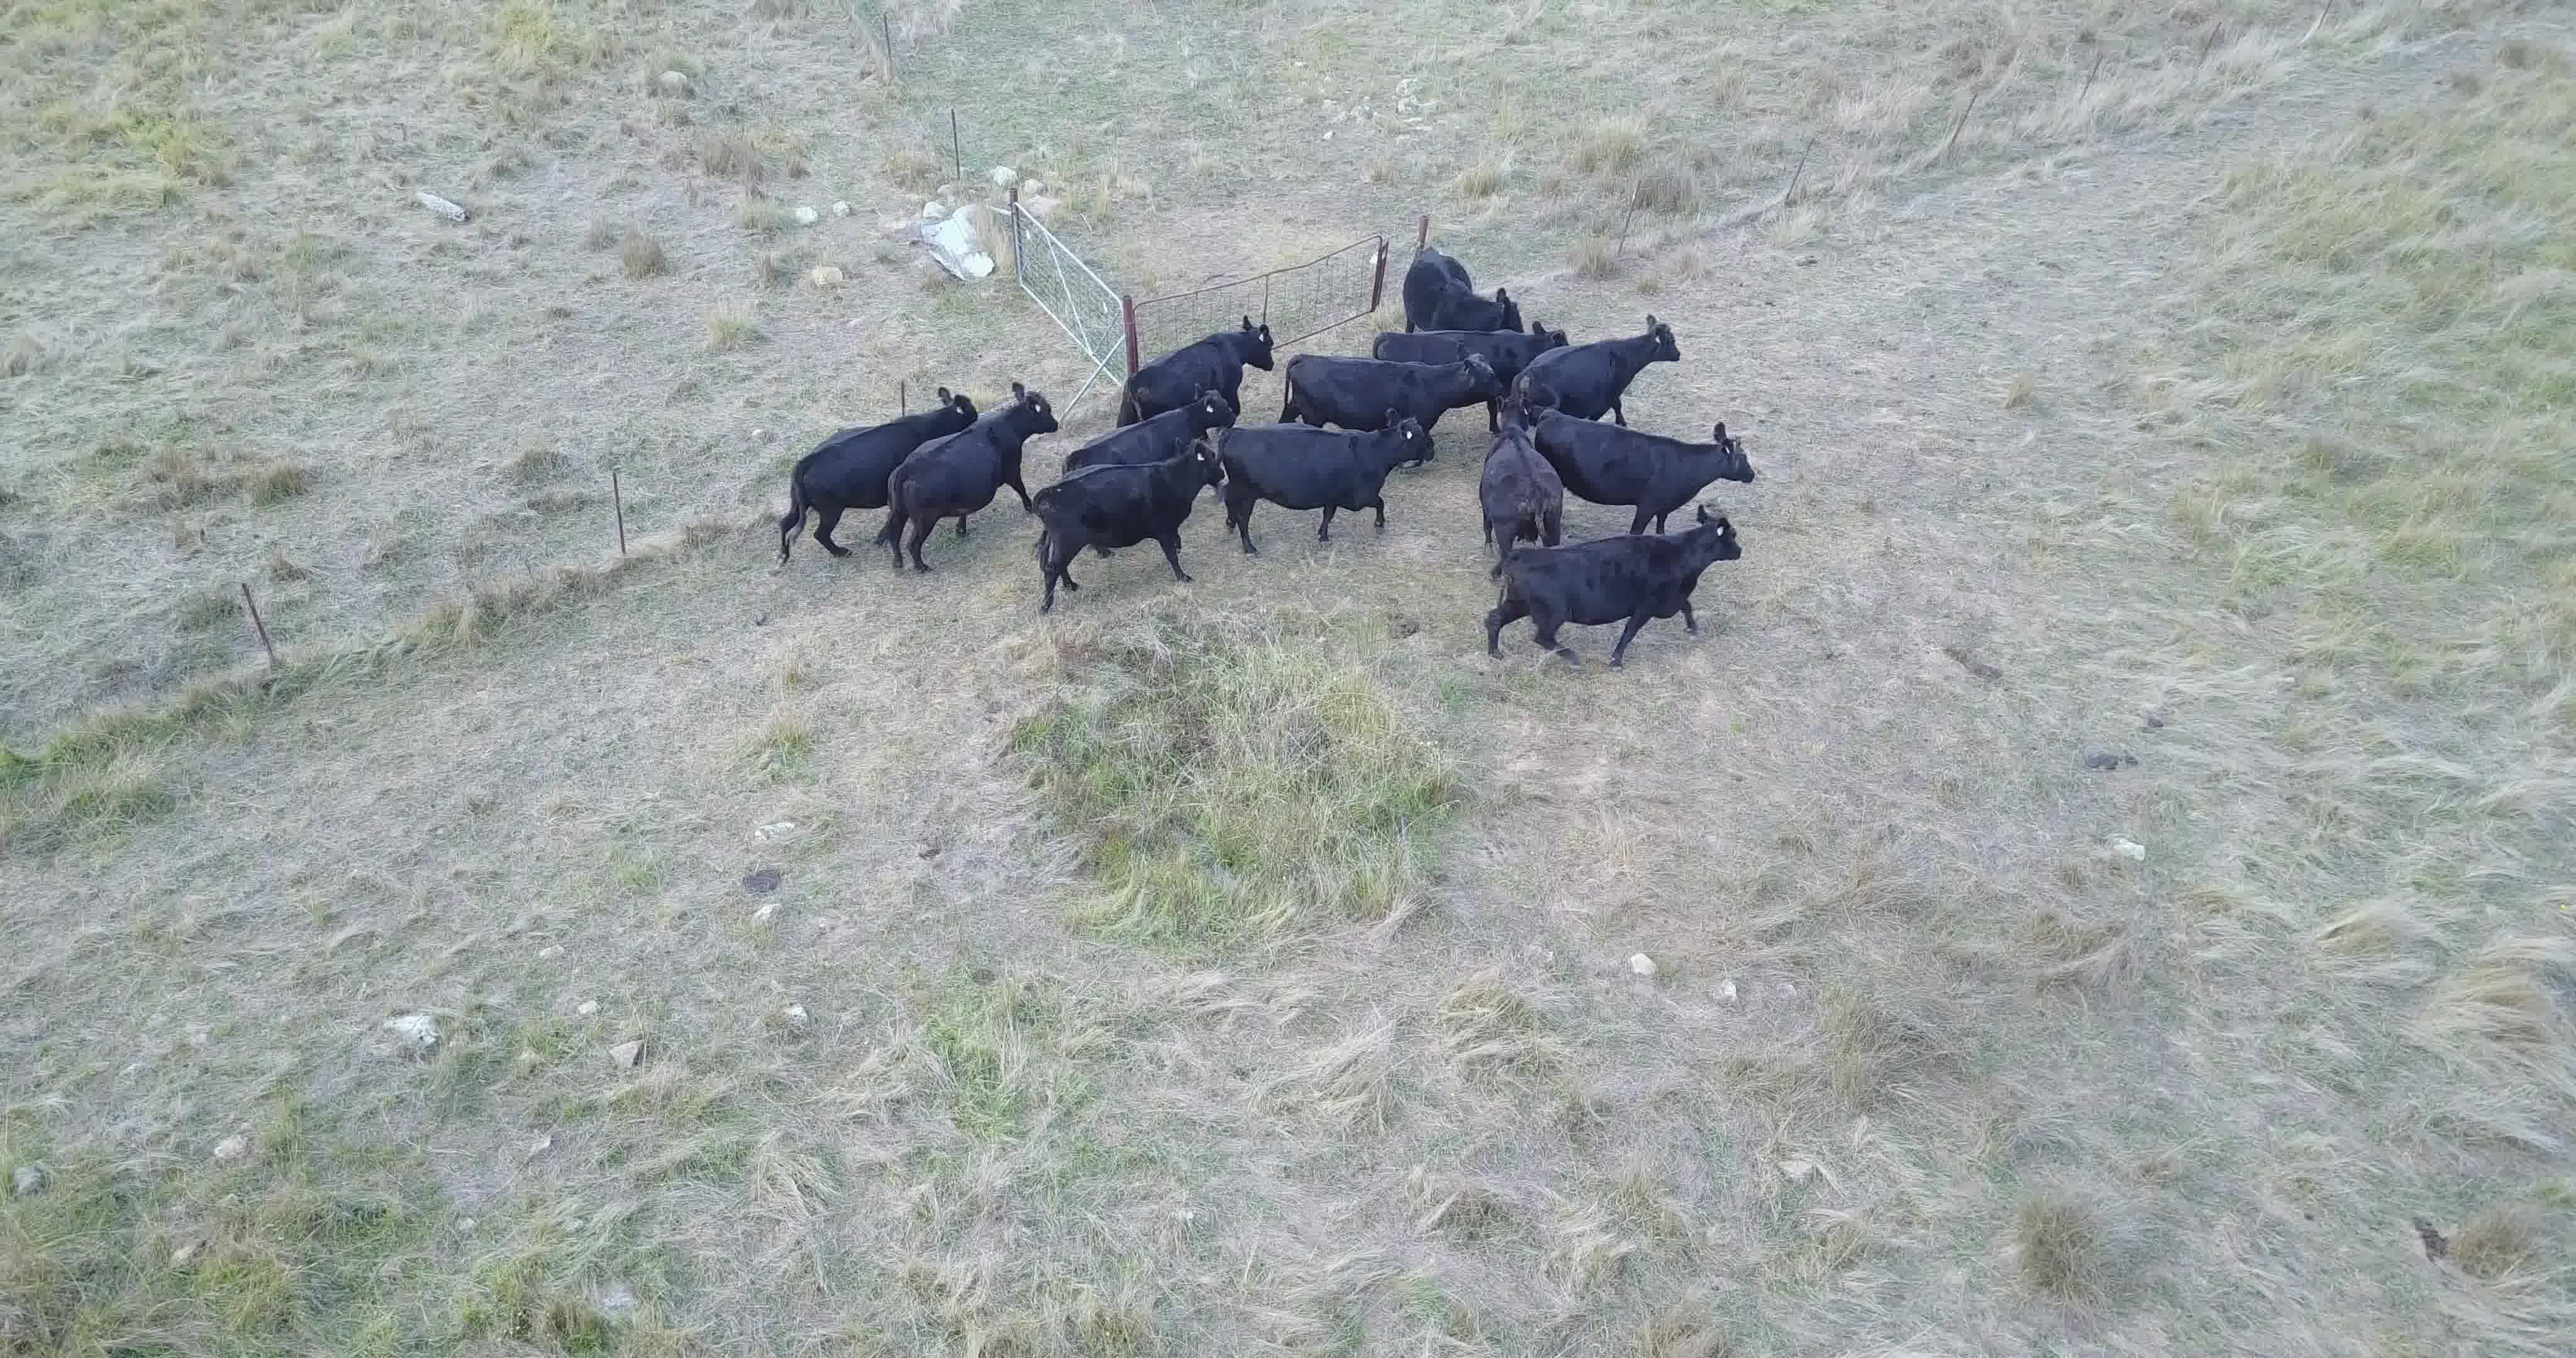cattle: (1482, 504, 1746, 665), (1032, 440, 1228, 610), (1225, 412, 1440, 557), (900, 382, 1046, 566), (1535, 404, 1758, 513), (770, 387, 976, 492), (1281, 348, 1504, 436), (1509, 317, 1685, 416), (1111, 315, 1276, 411), (1479, 394, 1566, 547), (1061, 392, 1232, 463), (1414, 244, 1528, 331), (1377, 324, 1576, 368)
